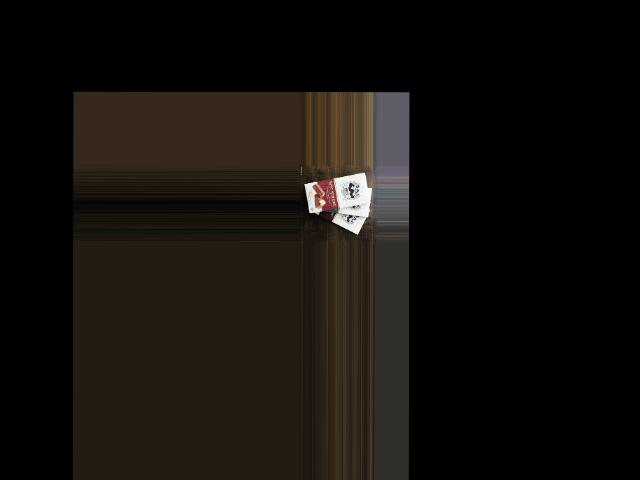chocolate: (304, 193, 371, 235)
